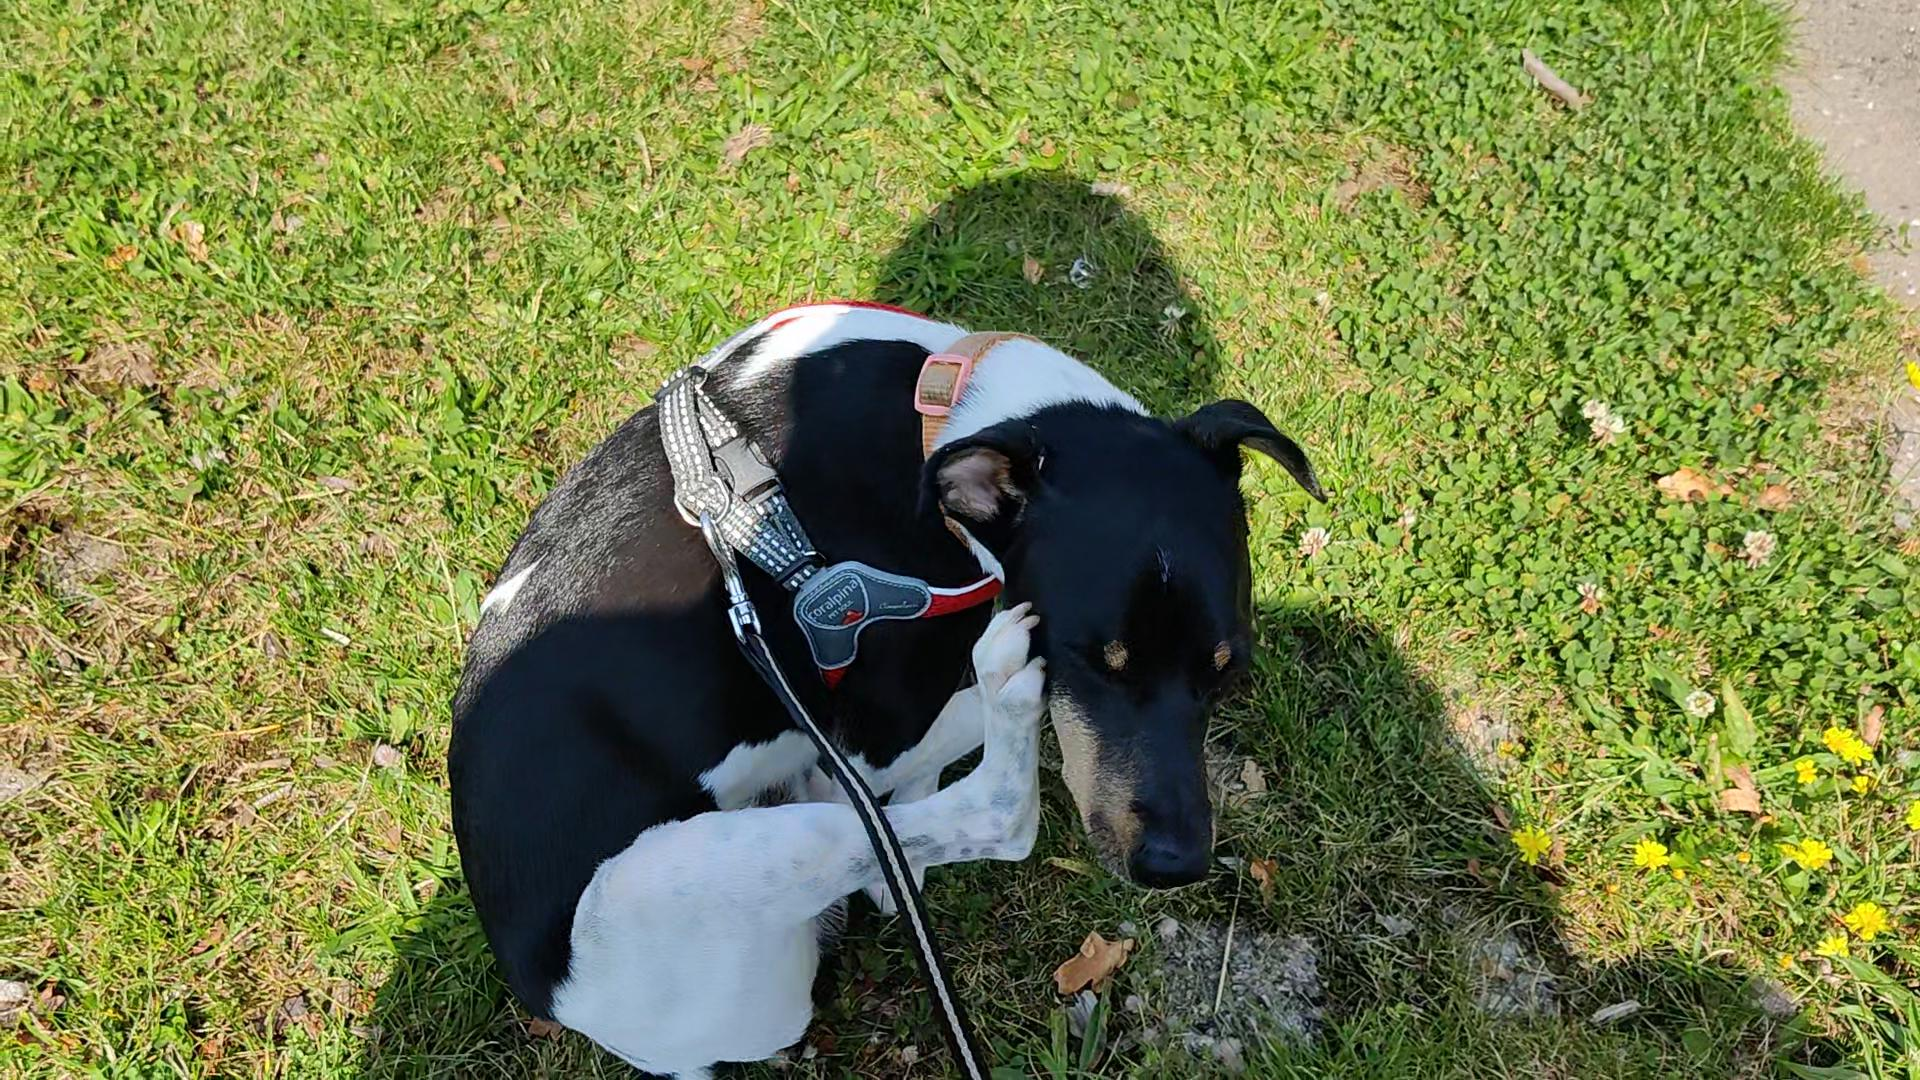Dog: (435, 286, 1331, 1079)
